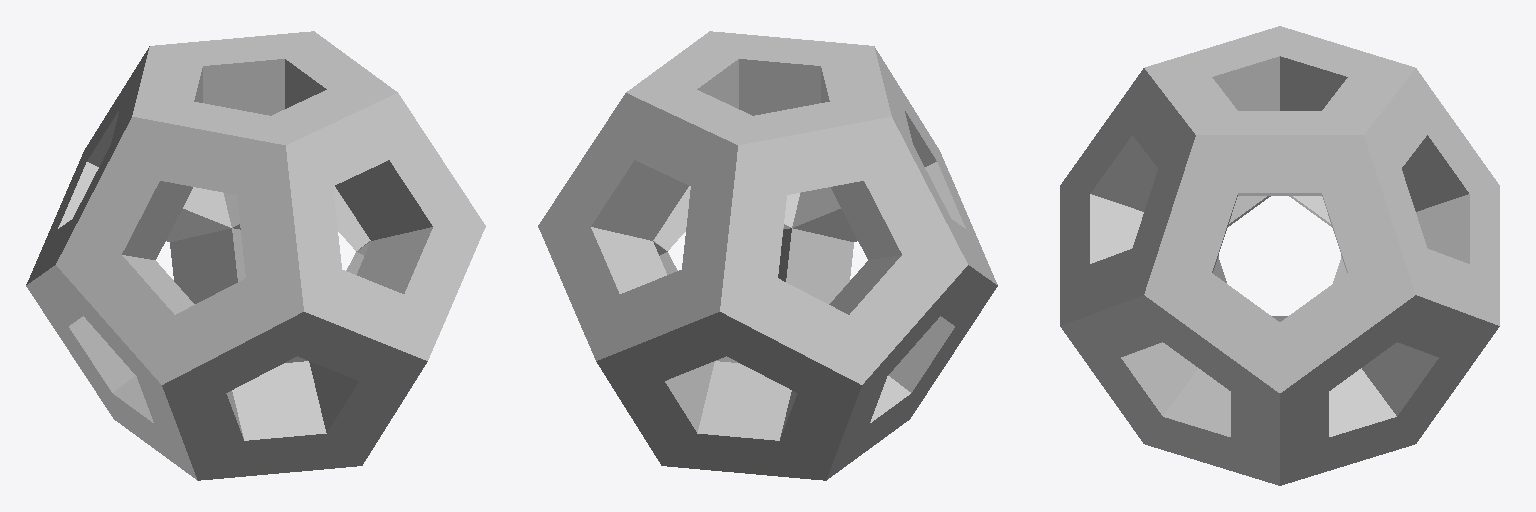
The model's file is Polyhedron_2.obj.
The picture shows the model from 3 angles: view 1: azimuth 30°, elevation 25°; view 2: azimuth 150°, elevation 25°; view 3: azimuth 270°, elevation 25°; orthographic projection.
Visible parts, largest first — view 1: polyhedrons_ts.001_polyhedrons_ts.006; view 2: polyhedrons_ts.001_polyhedrons_ts.006; view 3: polyhedrons_ts.001_polyhedrons_ts.006.
Part boxes in pixels (x1,y1,x2,y2): polyhedrons_ts.001_polyhedrons_ts.006: (26, 31, 485, 480); polyhedrons_ts.001_polyhedrons_ts.006: (538, 31, 997, 480); polyhedrons_ts.001_polyhedrons_ts.006: (1060, 26, 1499, 485).
Size of the model in its own units: 0.7497 by 0.6065 by 0.713.